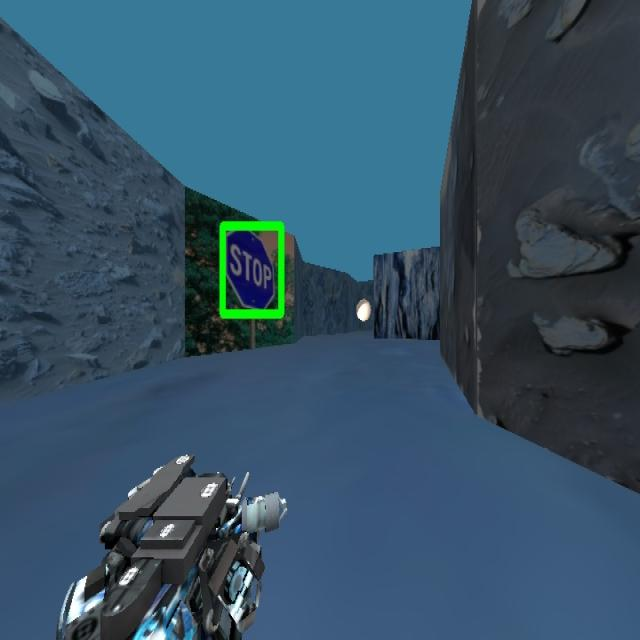Circle: (354, 297, 370, 323)
Stop_Sign: (218, 219, 285, 320)
